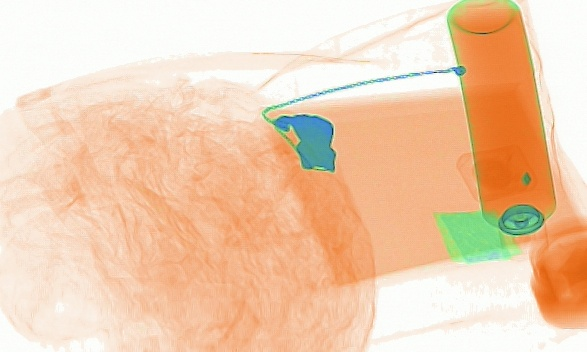pressure: (445, 4, 557, 253)
